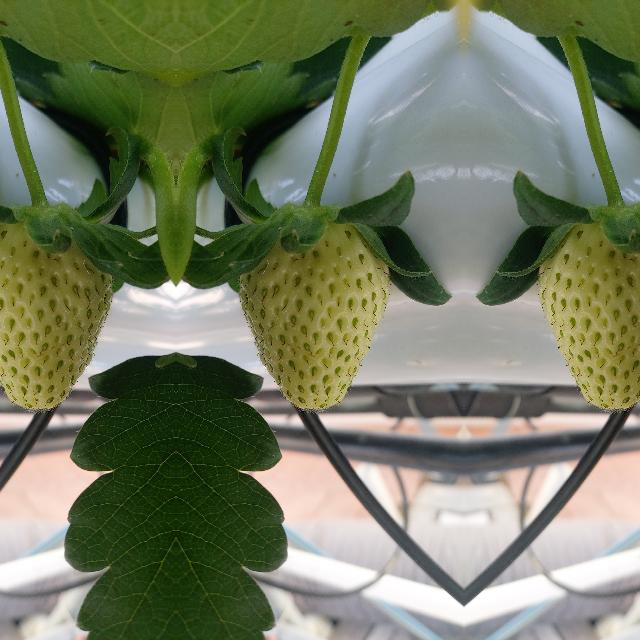Health_25: (236, 218, 390, 412), (0, 218, 114, 411), (535, 218, 640, 411)
